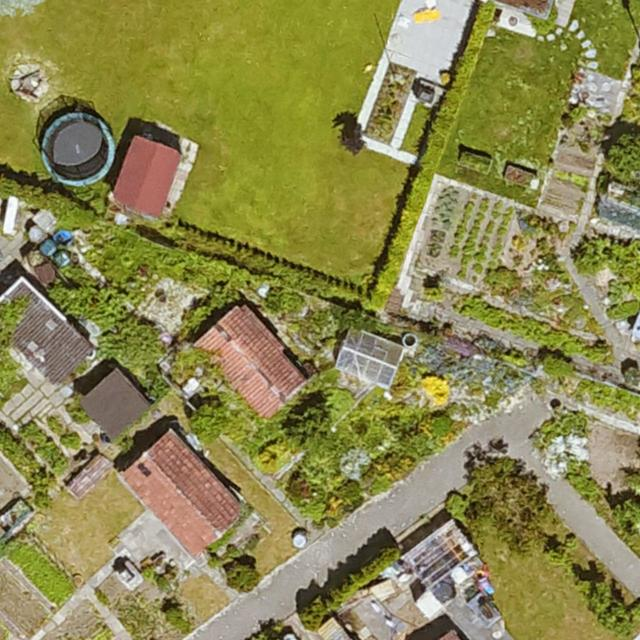tree: (468, 453, 550, 542), (593, 579, 637, 633), (284, 402, 334, 447), (605, 129, 640, 183), (191, 403, 228, 442), (612, 493, 640, 537), (227, 561, 263, 594), (340, 125, 366, 155), (297, 604, 325, 630)
